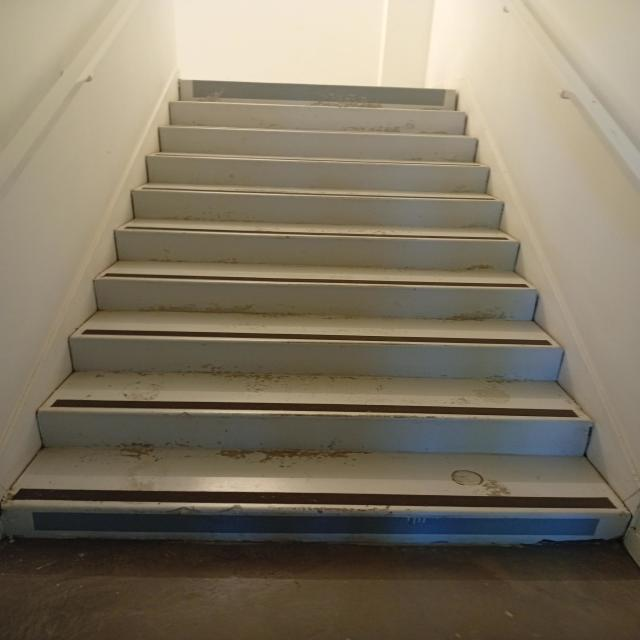Stairs: (1, 131, 635, 577)
